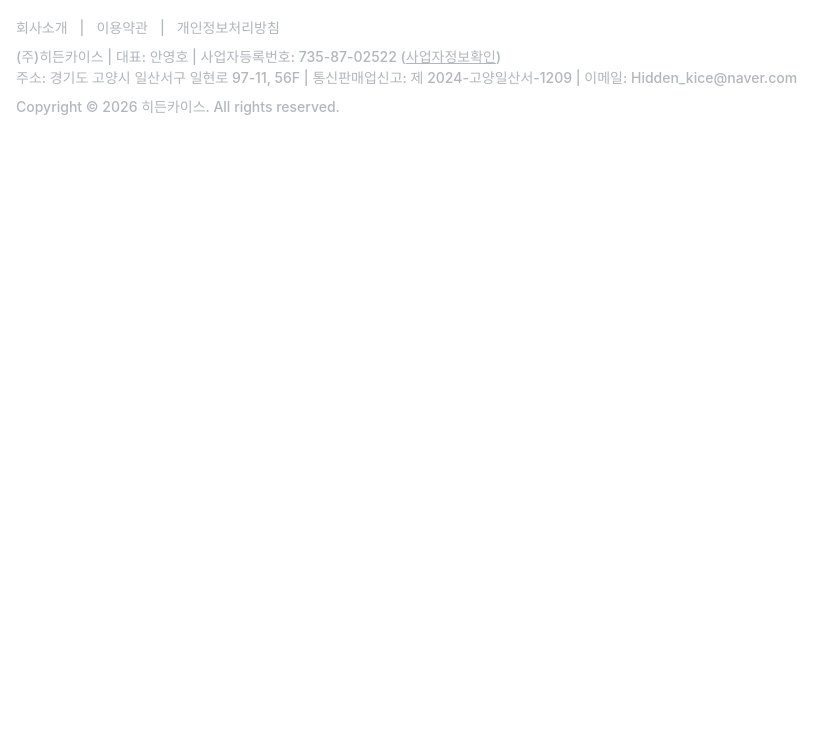
Test: Footer › 약관 메뉴를 누르면 준비 중 안내를 띄운다
What coordinates should you click on to do the following:
click the button "이용약관"
I would click on:
 (122, 28)
Its box is x1=96 y1=17 x2=148 y2=38.
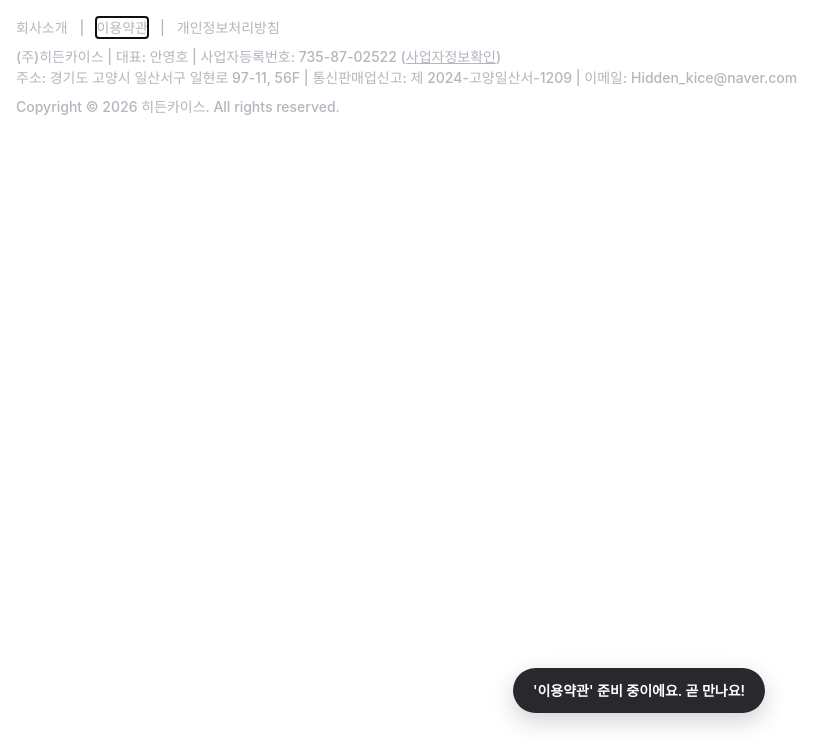
expect the message reads "'이용약관' 준비 중이에요. 곧 만나요!": met, box x1=533 y1=682 x2=745 y2=699
